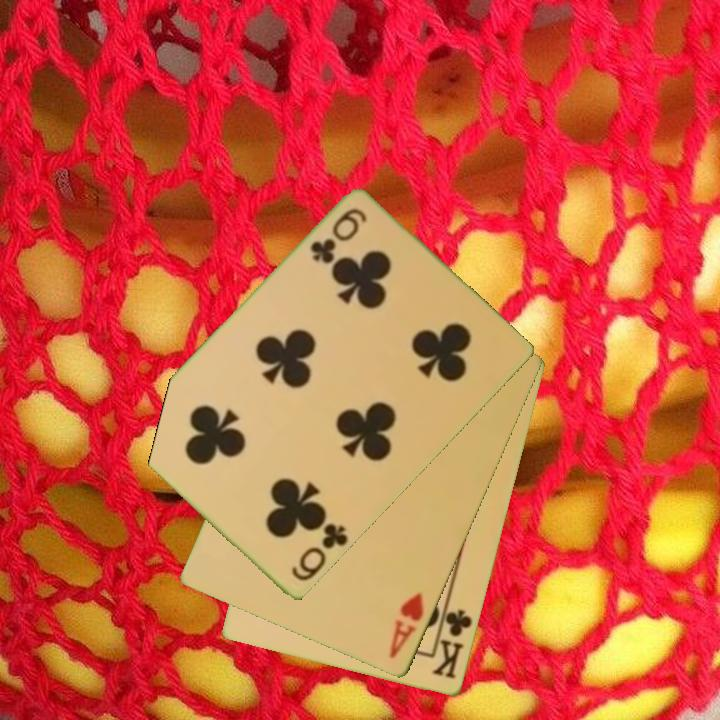6c: (288, 520, 351, 585), (306, 205, 370, 268)
Ah: (386, 589, 427, 662)
Kc: (429, 600, 476, 683)
